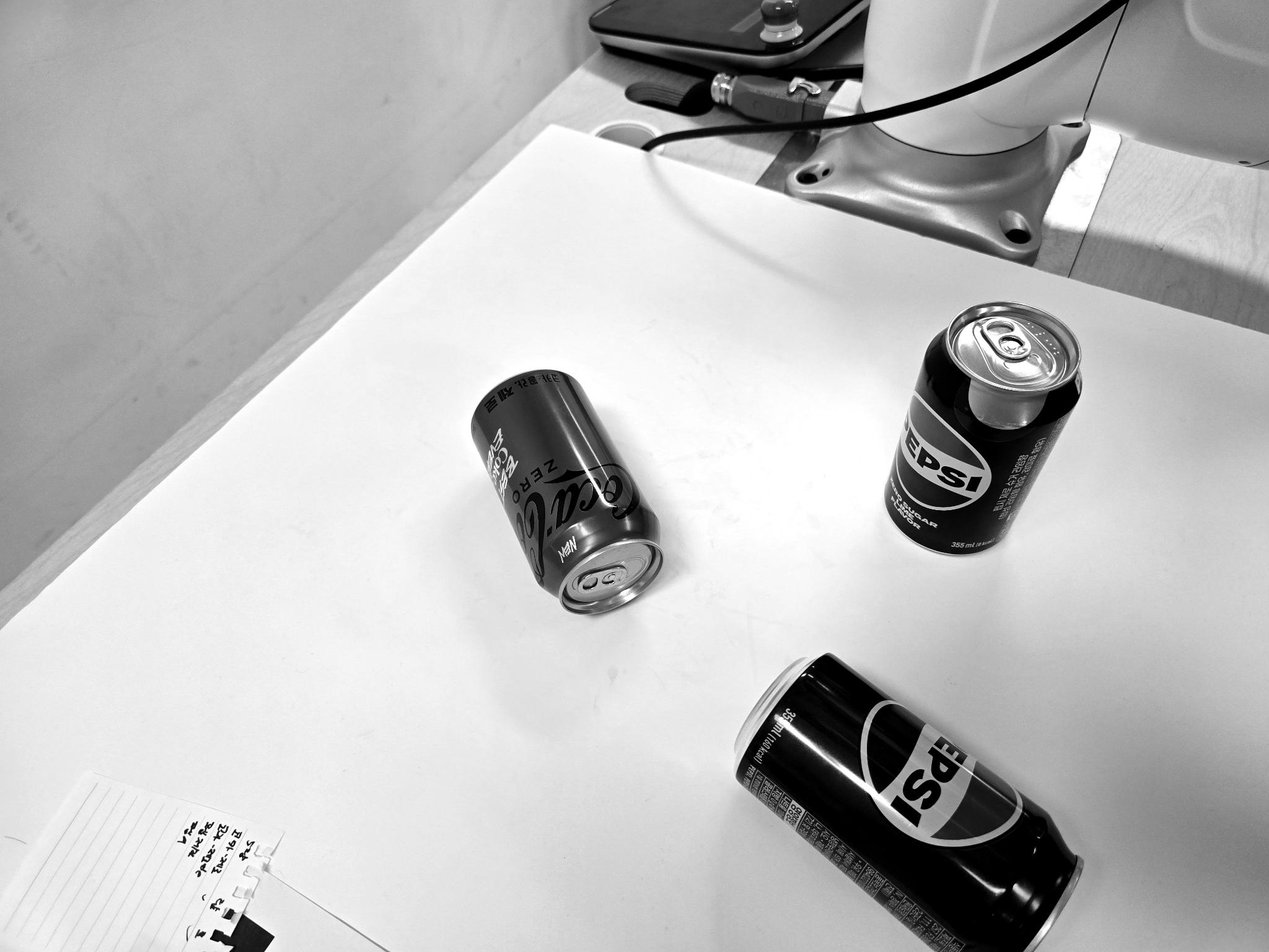can_coke_zero: (471, 369, 663, 614)
can_pepsi: (736, 655, 1081, 952)
can_pepsi_zero: (887, 302, 1081, 554)
